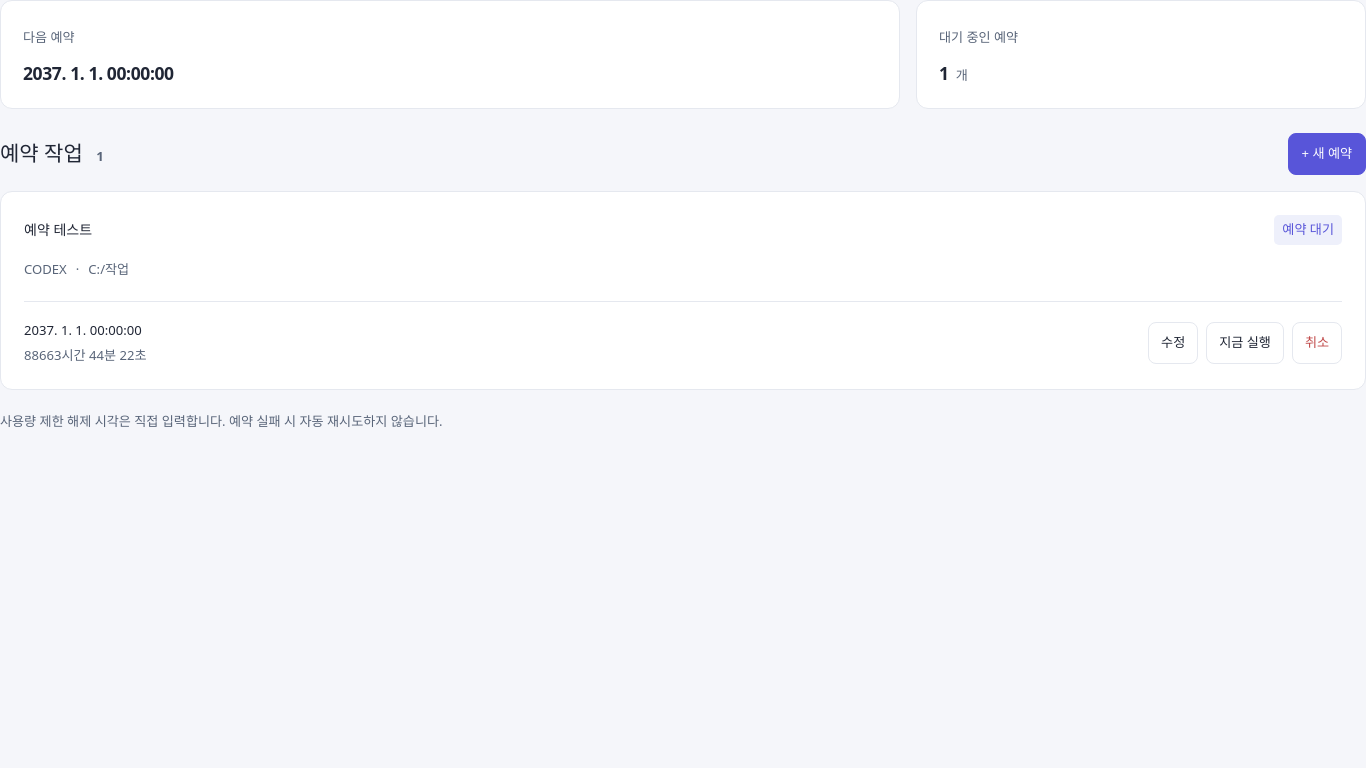
Test case: 예약 취소 확인을 거절하면 작업을 유지한다
The image size is (1366, 768).
Click the button "취소" at (1317, 342), box [1292,322,1342,364]
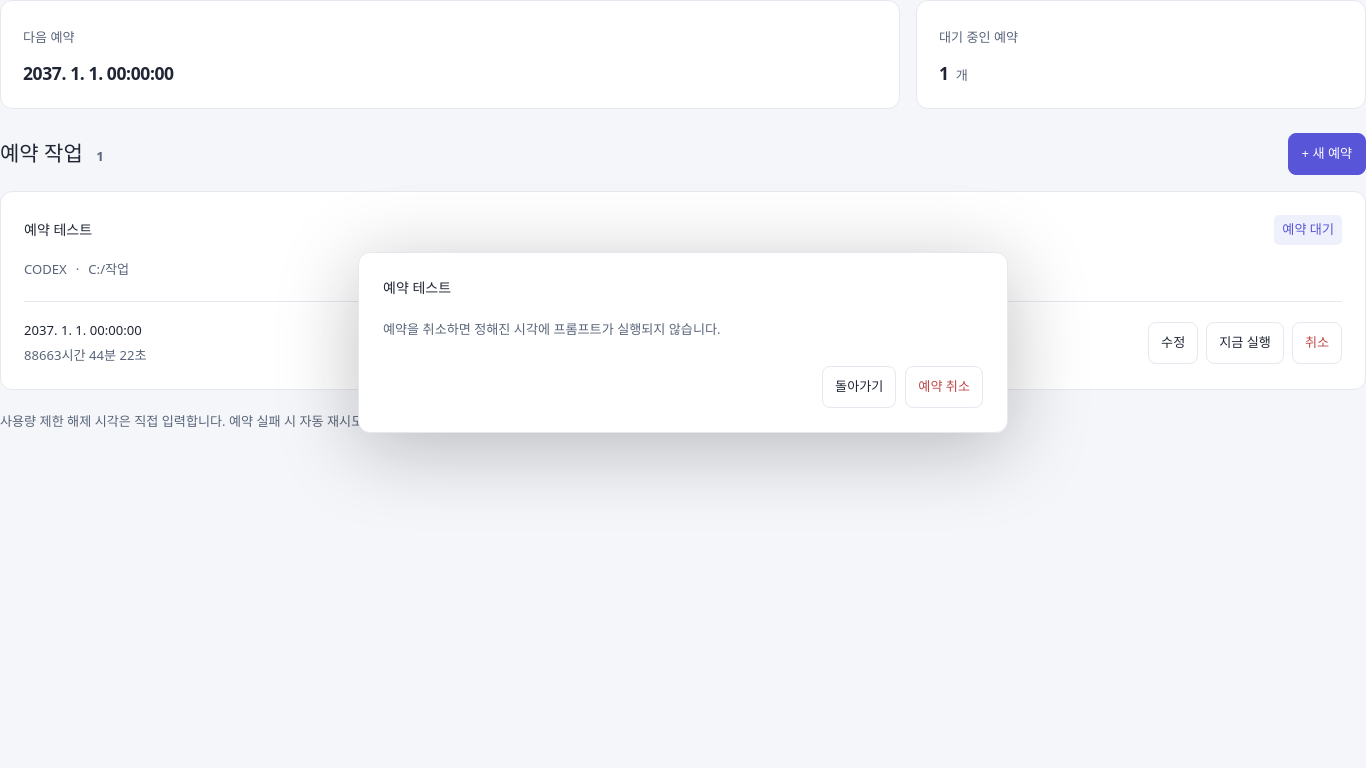
Click the button "돌아가기" at (859, 387), box [822,366,896,408]
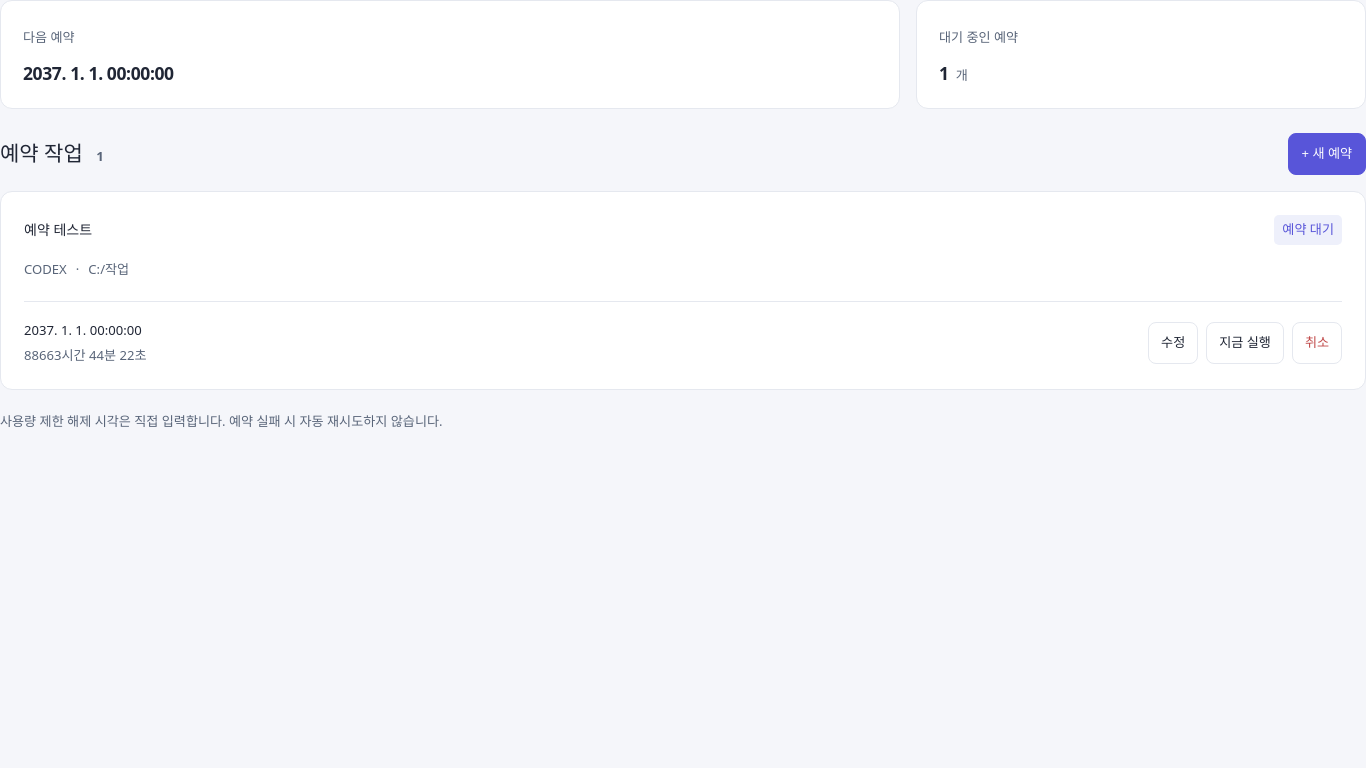
expect the dialog is gone: met
